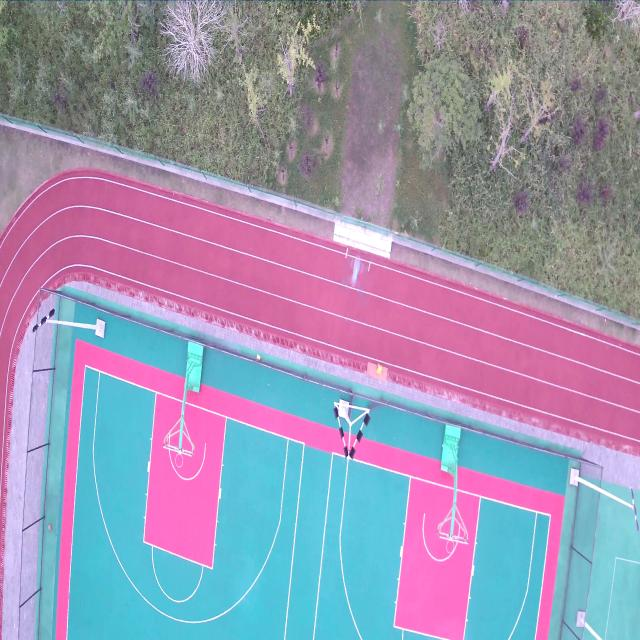UAV: (342, 243, 372, 295)
